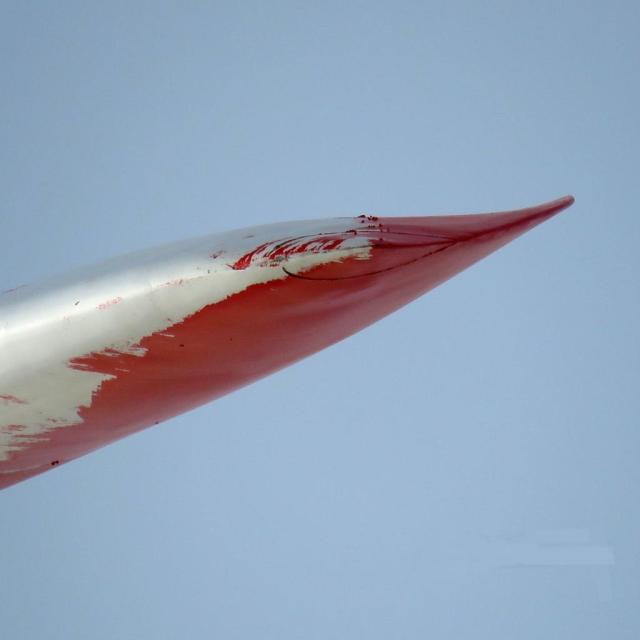surface_peeling: (85, 224, 393, 323), (1, 276, 88, 428)
